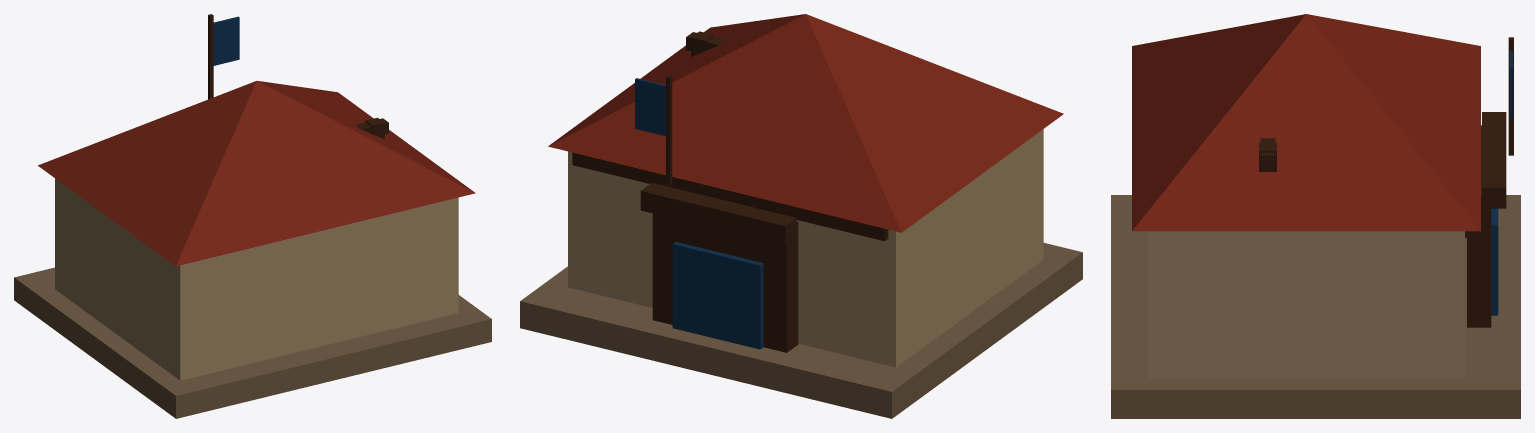
Rendered from SiegeWorkshop_authoring.obj.
The picture shows the model from 3 angles, left to right: view 1: azimuth 30°, elevation 25°; view 2: azimuth 150°, elevation 25°; view 3: azimuth 270°, elevation 25°; orthographic projection. The views are drawn at different scales.
Visible parts, largest first — view 1: WorkshopWalls, Roof, Foundation, Banner, BannerPole; view 2: Roof, WorkshopWalls, Foundation, EntranceFrame, Gate, GateLintel, TimberBeam, Banner, BannerPole; view 3: Roof, WorkshopWalls, Foundation, EntranceFrame, GateLintel, Gate, BannerPole, CraneArm.
Boxes of the visible parts, bbox=[...] form: WorkshopWalls: bbox=[55, 178, 458, 380]; Roof: bbox=[38, 81, 475, 266]; Foundation: bbox=[14, 267, 491, 418]; Banner: bbox=[213, 16, 239, 65]; BannerPole: bbox=[208, 14, 213, 99]; Roof: bbox=[548, 14, 1063, 232]; WorkshopWalls: bbox=[568, 129, 1043, 367]; Foundation: bbox=[520, 243, 1082, 418]; EntranceFrame: bbox=[652, 213, 798, 352]; Gate: bbox=[672, 242, 763, 349]; GateLintel: bbox=[640, 182, 796, 245]; TimberBeam: bbox=[572, 152, 888, 241]; Banner: bbox=[635, 78, 665, 136]; BannerPole: bbox=[666, 75, 672, 185]; Roof: bbox=[1132, 14, 1480, 231]; WorkshopWalls: bbox=[1148, 231, 1464, 378]; Foundation: bbox=[1111, 195, 1520, 418]; EntranceFrame: bbox=[1467, 125, 1491, 327]; GateLintel: bbox=[1482, 112, 1506, 208]; Gate: bbox=[1491, 208, 1498, 315]; BannerPole: bbox=[1508, 37, 1513, 155]; CraneArm: bbox=[1260, 138, 1275, 169].
Size of the model in its own units: 7.2 by 5.3 by 6.4.
